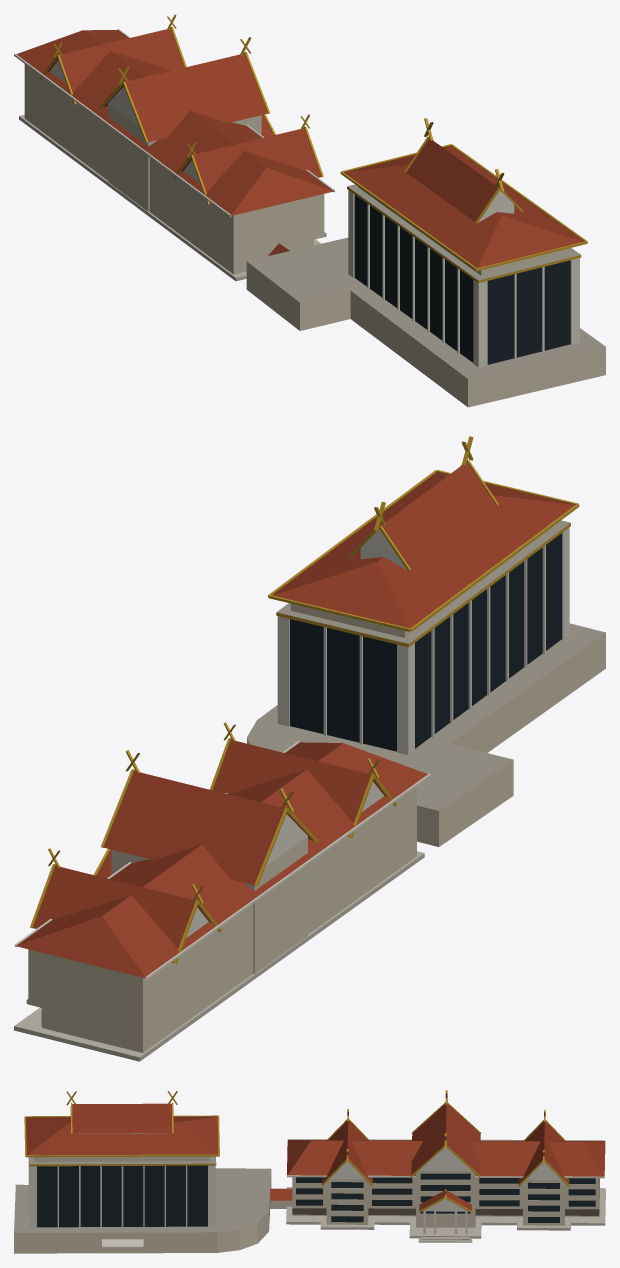
The model's file is kantor-gubernur-riau-lod1.glb.
3 views of the same model, one above another, from view 1: azimuth 30°, elevation 25°; view 2: azimuth 150°, elevation 25°; view 3: azimuth 270°, elevation 25° (orthographic). The views are drawn at different scales.
Visible parts, largest first — view 1: kantor-gubernur-riau_LOD1; view 2: kantor-gubernur-riau_LOD1; view 3: kantor-gubernur-riau_LOD1.
Part boxes in pixels (x1,y1,x2,y2): kantor-gubernur-riau_LOD1: (14,14,605,407); kantor-gubernur-riau_LOD1: (14,436,605,1061); kantor-gubernur-riau_LOD1: (14,1090,605,1253).
Bounding box in the file's own units: 58.61 × 51.2 × 198.
